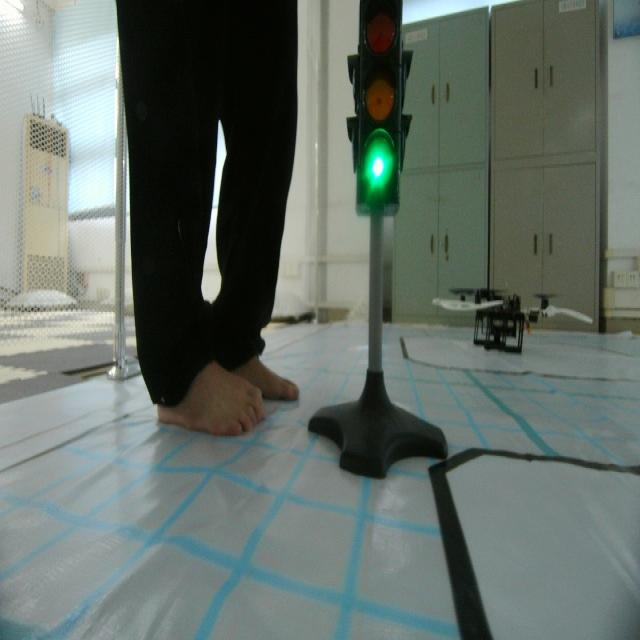green: (352, 1, 402, 220)
